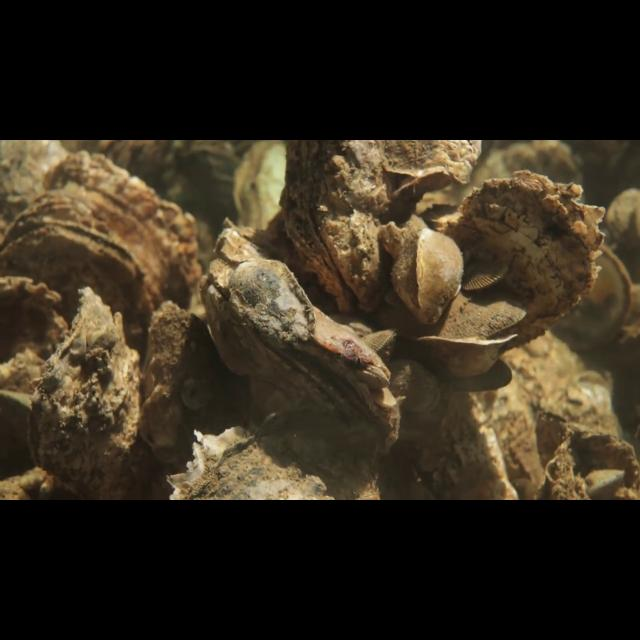Oyster-Closed: (195, 247, 401, 462), (443, 168, 610, 359), (10, 151, 199, 312), (0, 212, 163, 379), (27, 282, 141, 500), (276, 140, 388, 316), (137, 299, 245, 470), (167, 425, 383, 499), (0, 276, 73, 400), (229, 254, 318, 351), (390, 214, 465, 323), (377, 140, 482, 184), (385, 357, 443, 415), (434, 355, 514, 392), (358, 326, 397, 363), (461, 262, 504, 295), (354, 361, 391, 389)
Oyster-Open: (410, 291, 532, 380)
